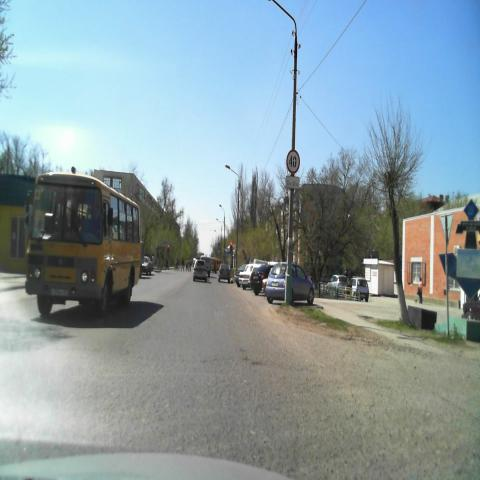8_5_4: (286, 176, 300, 190)
